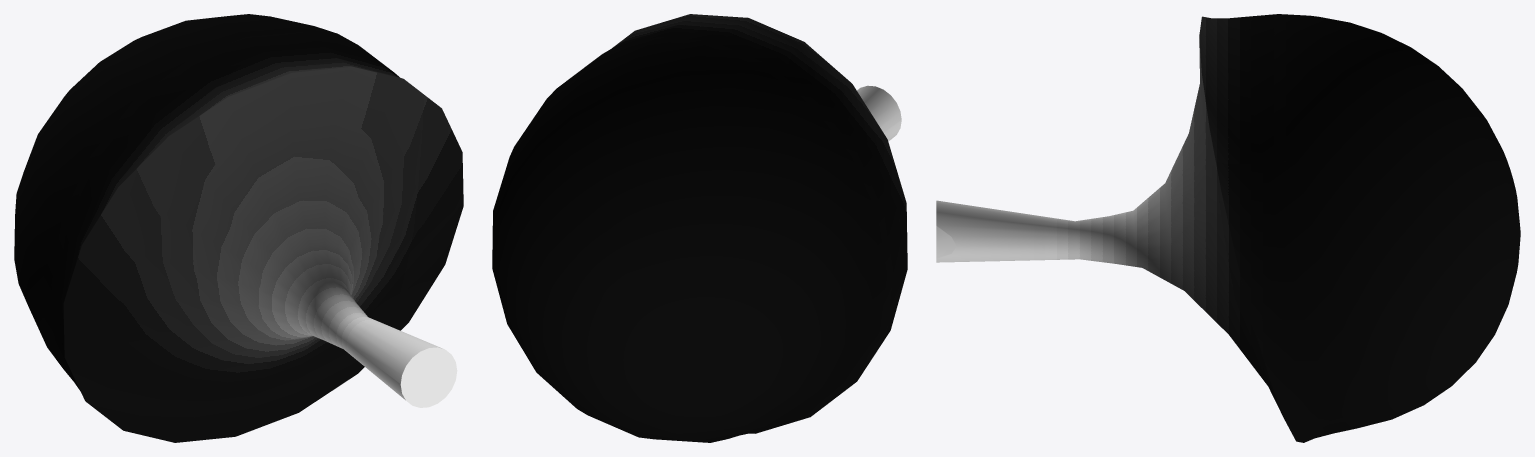
File: Mushroom.FBX
3 renders of one model, left to right at view 1: azimuth 30°, elevation 25°; view 2: azimuth 150°, elevation 25°; view 3: azimuth 270°, elevation 25°, orthographic. The views are drawn at different scales.
Visible parts, largest first — view 1: underwater_plant_waterShrooms; view 2: underwater_plant_waterShrooms; view 3: underwater_plant_waterShrooms.
Part boxes in pixels (x1,y1,x2,y2): underwater_plant_waterShrooms: [14, 14, 463, 442]; underwater_plant_waterShrooms: [492, 14, 907, 442]; underwater_plant_waterShrooms: [936, 14, 1520, 442].
Bounding box in the file's own units: 140 × 137 × 185.
